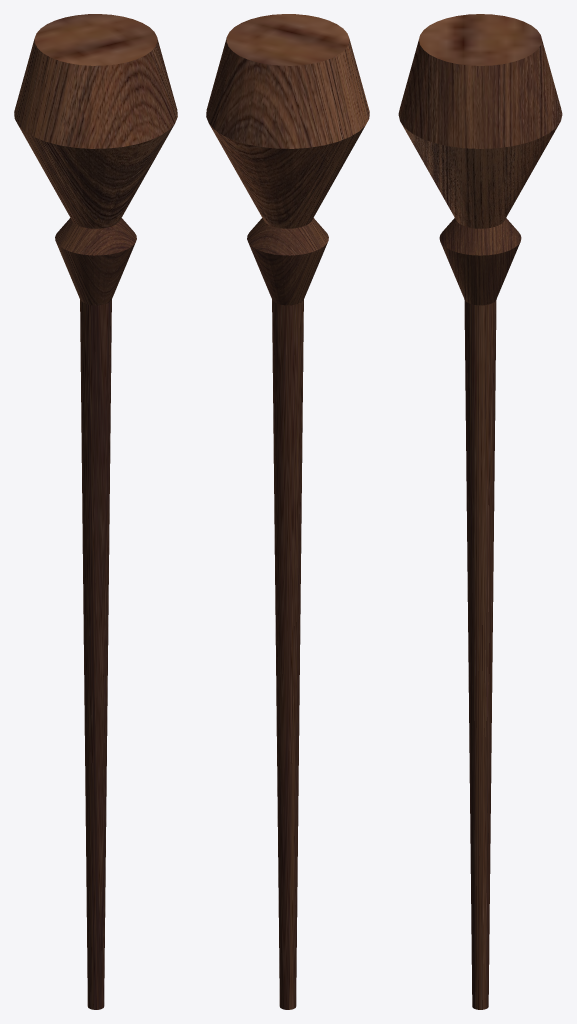
File: Staff.obj
3 renders of one model, left to right at view 1: azimuth 30°, elevation 25°; view 2: azimuth 150°, elevation 25°; view 3: azimuth 270°, elevation 25°, orthographic.
Visible parts, largest first — view 1: Staff_Cone.002; view 2: Staff_Cone.002; view 3: Staff_Cone.002.
Boxes of the visible parts, bbox=[...] form: Staff_Cone.002: bbox=[14, 14, 177, 1009]; Staff_Cone.002: bbox=[206, 14, 369, 1009]; Staff_Cone.002: bbox=[398, 14, 562, 1009].
Bounding box in the file's own units: 0.3 × 1.95 × 0.3.
